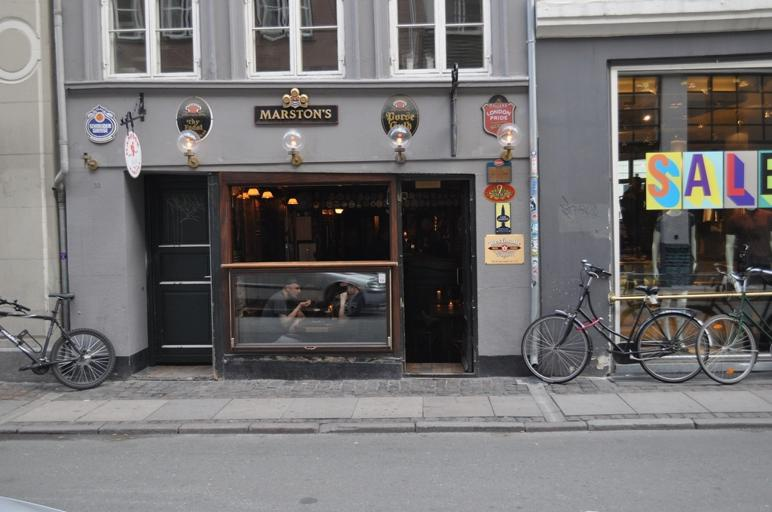non-vehicle: (515, 258, 712, 387), (0, 292, 118, 392), (696, 258, 771, 387)
